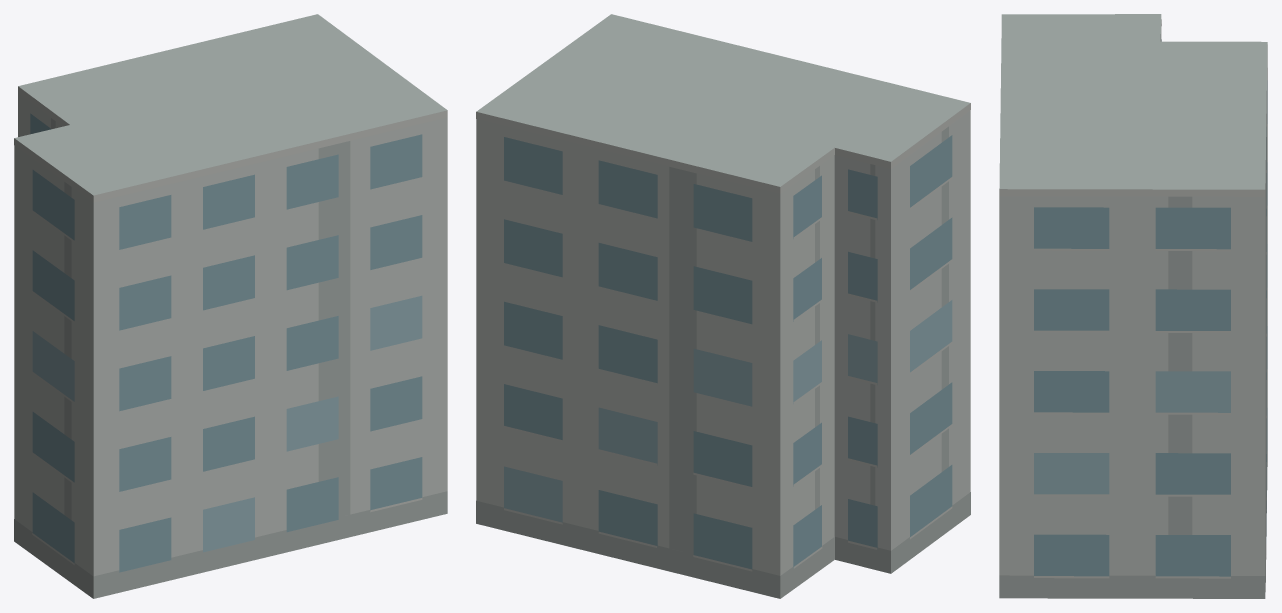
File: survey-upis-32501365.glb
3 views of the same model, side by side, from view 1: azimuth 30°, elevation 25°; view 2: azimuth 150°, elevation 25°; view 3: azimuth 270°, elevation 25° (orthographic). The views are drawn at different scales.
Visible parts, largest first — view 1: survey-upis-32501365.tmp; view 2: survey-upis-32501365.tmp; view 3: survey-upis-32501365.tmp.
Boxes of the visible parts, x1,y1,x2,y2 form: survey-upis-32501365.tmp: (14,14,447,598); survey-upis-32501365.tmp: (476,14,970,598); survey-upis-32501365.tmp: (999,14,1267,598).
Size of the model in its own units: 12.82 by 13.9 by 8.27.
